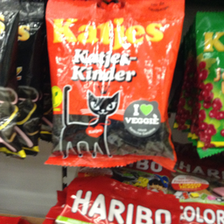candy: (44, 1, 185, 172)
